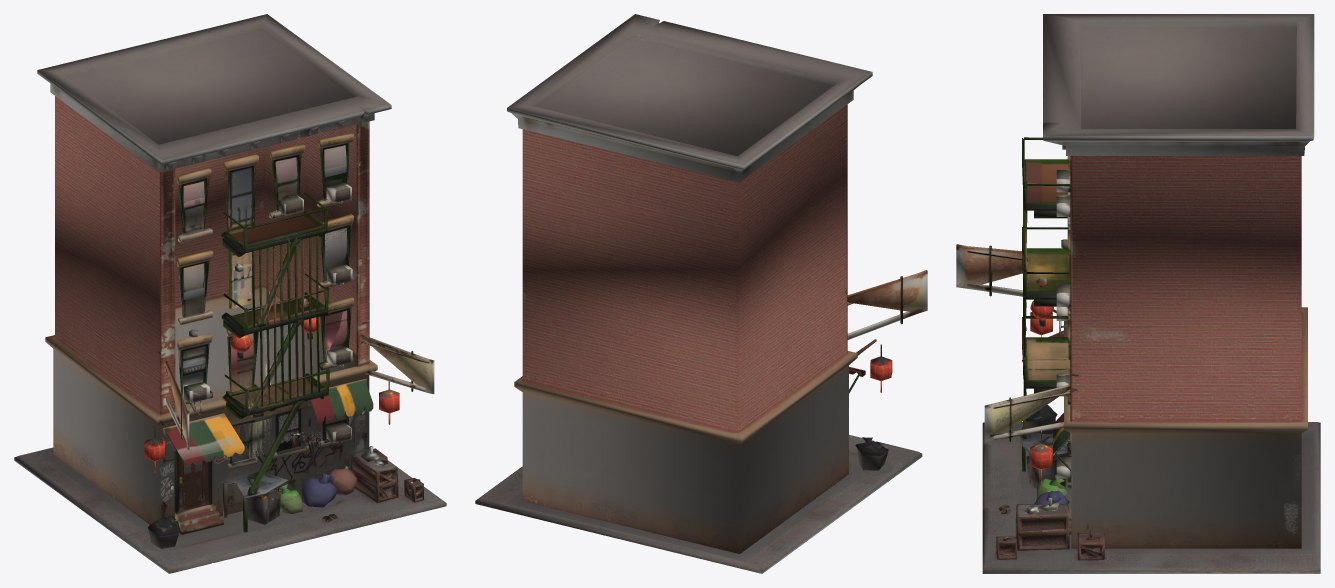
The model's file is 019e4a0f-1fc6-7254-9cee-5d1cc8c656f1.glb.
3 renders of one model, left to right at view 1: azimuth 30°, elevation 25°; view 2: azimuth 150°, elevation 25°; view 3: azimuth 270°, elevation 25°, orthographic. The views are drawn at different scales.
Visible parts, largest first — view 1: tripo_node_a99b15b4-9006-455e-a25f-220b2f357928; view 2: tripo_node_a99b15b4-9006-455e-a25f-220b2f357928; view 3: tripo_node_a99b15b4-9006-455e-a25f-220b2f357928.
Part boxes in pixels (bbox=[...]): tripo_node_a99b15b4-9006-455e-a25f-220b2f357928: bbox=[14, 14, 446, 573]; tripo_node_a99b15b4-9006-455e-a25f-220b2f357928: bbox=[475, 14, 927, 573]; tripo_node_a99b15b4-9006-455e-a25f-220b2f357928: bbox=[956, 14, 1320, 573].
Bounding box in the file's own units: 0.748 × 0.998 × 0.7793.
Materials: 1 (1 with a texture image).
